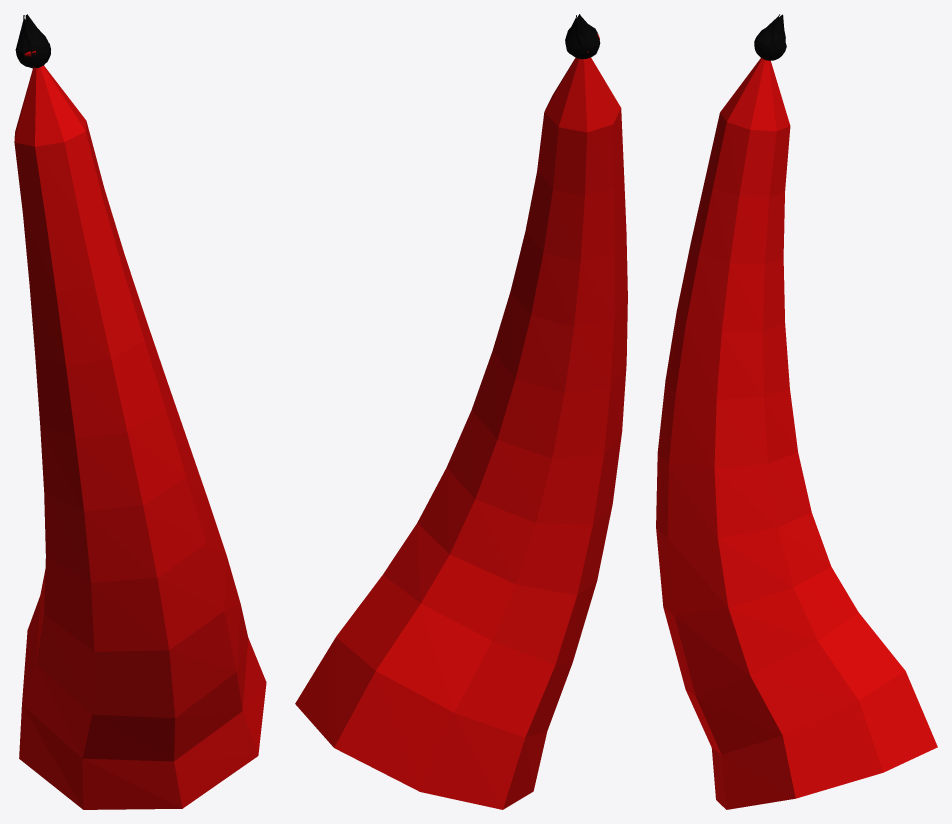
The model's file is Rose.glb.
The picture shows the model from 3 angles, left to right: view 1: azimuth 30°, elevation 25°; view 2: azimuth 150°, elevation 25°; view 3: azimuth 270°, elevation 25°; orthographic projection. The views are drawn at different scales.
Visible parts, largest first — view 1: RoseSmall_Object; view 2: RoseSmall_Object; view 3: RoseSmall_Object.
Part boxes in pixels (box(x1,y1,x2,y2)): RoseSmall_Object: box(14, 14, 266, 809); RoseSmall_Object: box(295, 14, 627, 809); RoseSmall_Object: box(656, 14, 937, 809).
Size of the model in its own units: 4.02e-06 by 1.14e-05 by 3.94e-06.
